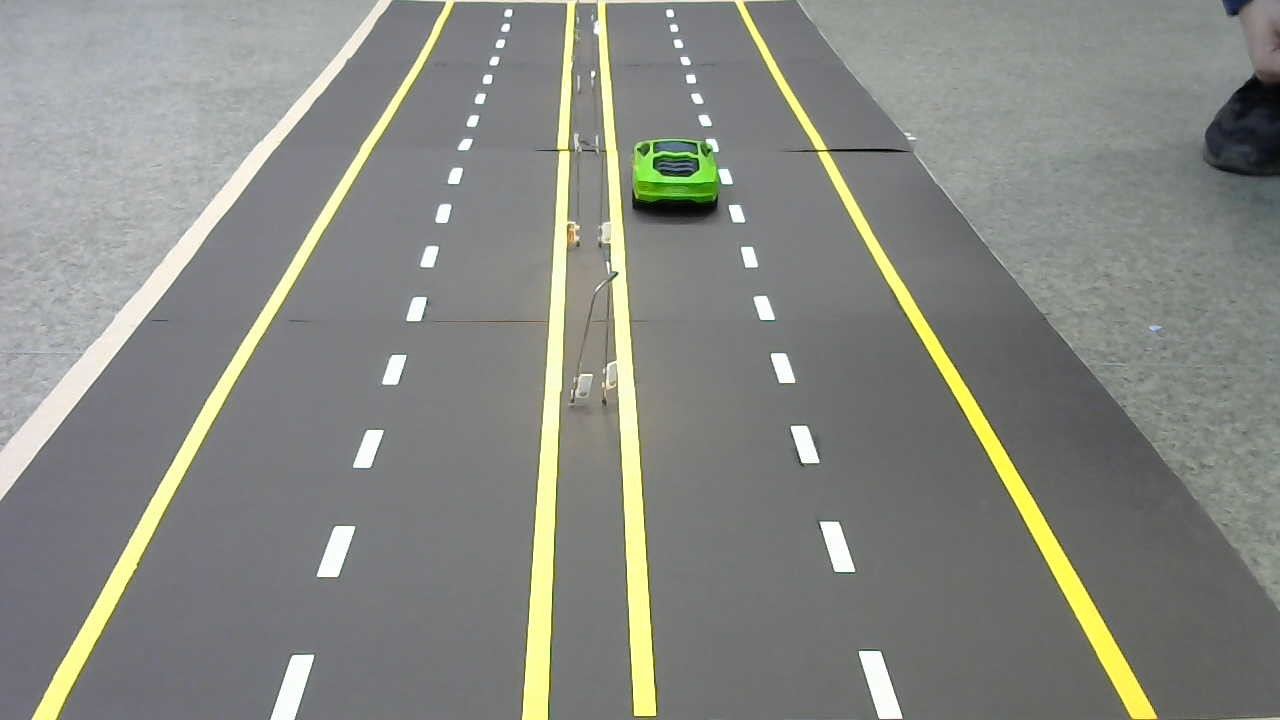back_car: (629, 132, 724, 215)
